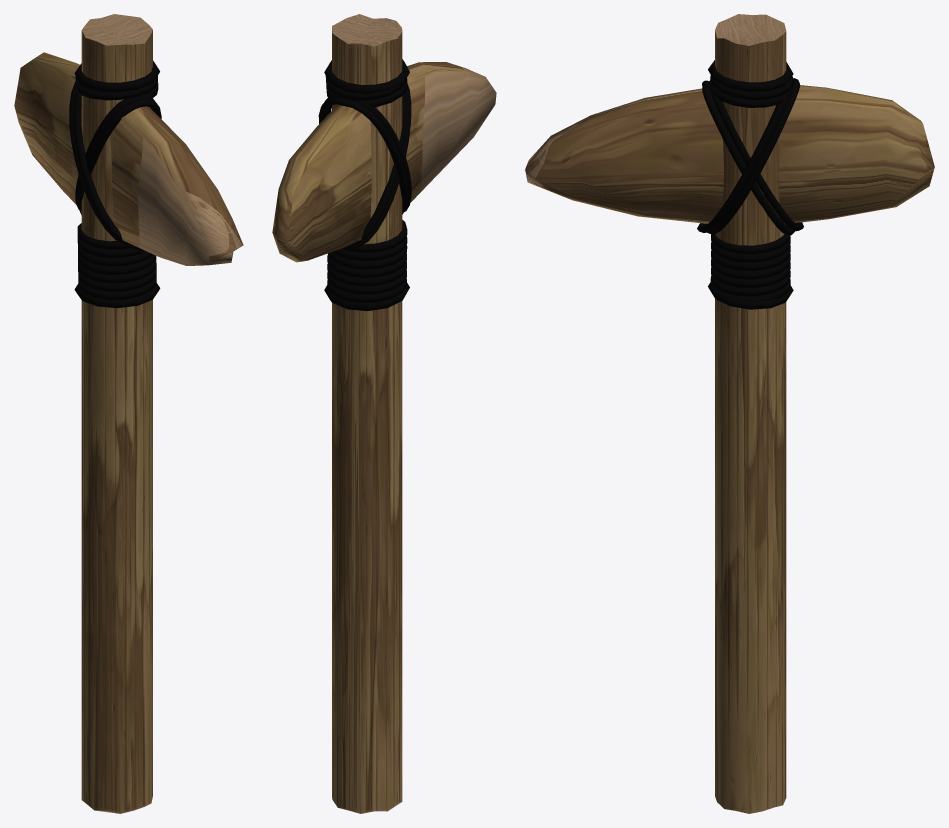
File: StonePickAxe.fbx
3 views of the same model, side by side, from view 1: azimuth 30°, elevation 25°; view 2: azimuth 150°, elevation 25°; view 3: azimuth 270°, elevation 25° (orthographic).
Visible parts, largest first — view 1: BézierCircle.005; view 2: BézierCircle.005; view 3: BézierCircle.005.
Boxes of the visible parts, bbox=[...] form: BézierCircle.005: bbox=[14, 14, 243, 813]; BézierCircle.005: bbox=[272, 14, 496, 813]; BézierCircle.005: bbox=[525, 14, 934, 813].
Size of the model in its own units: 16.55 by 157 by 75.66.
